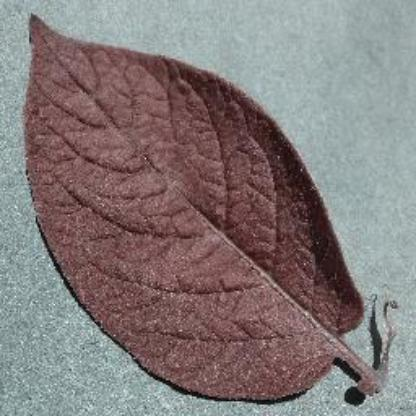Healthy-plant: (15, 12, 361, 402)
